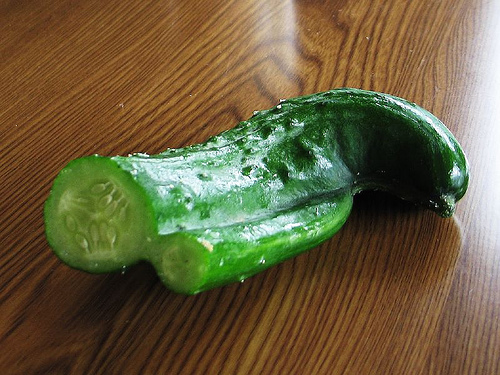cucumber: (39, 85, 470, 297)
